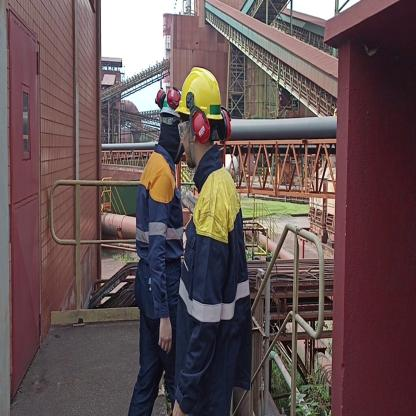Balaclava: (161, 118, 178, 158)
Capacete: (180, 64, 225, 118), (156, 84, 180, 114)
Operacional: (136, 152, 185, 317)
